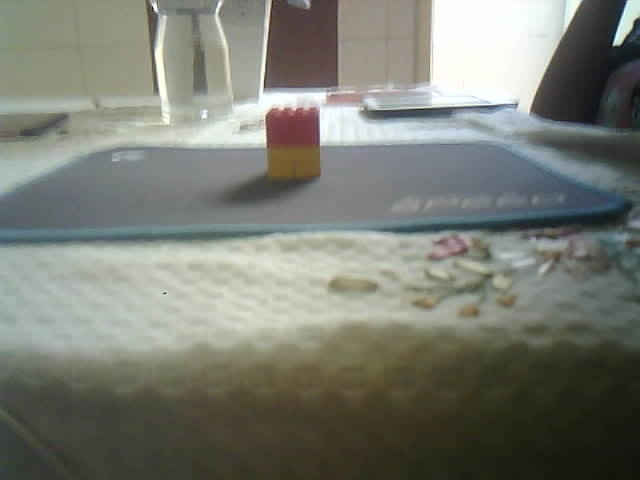lego: (265, 106, 321, 180)
